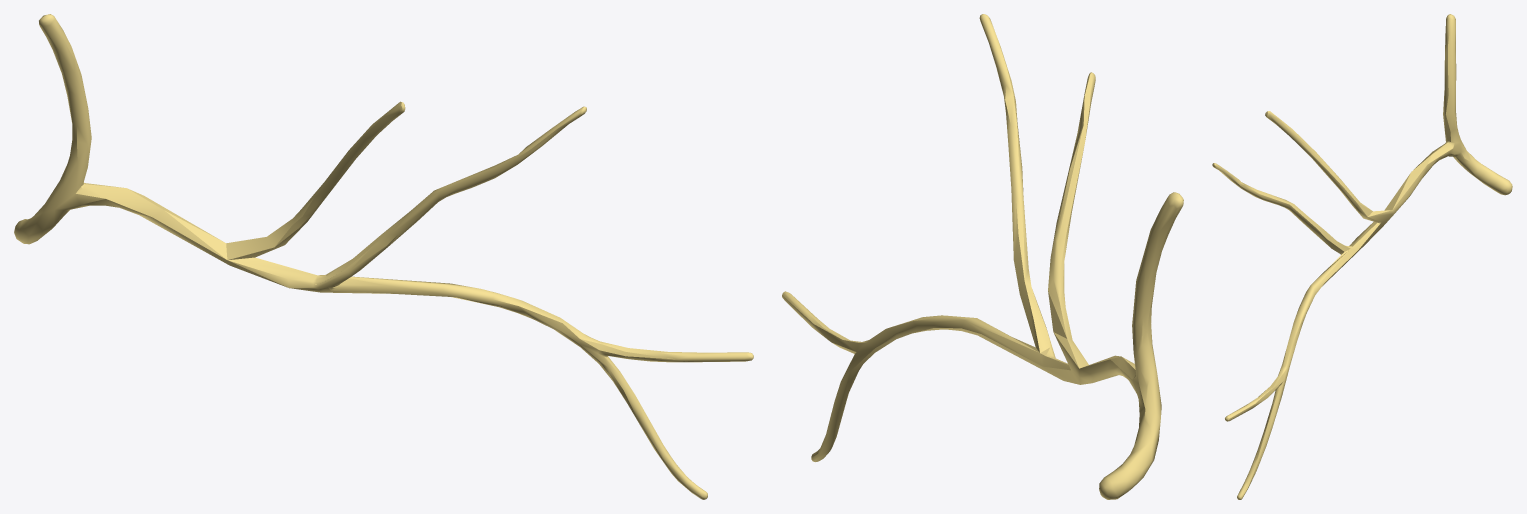
File: fma53251_fj3990.glb
3 views of the same model, side by side, from view 1: azimuth 30°, elevation 25°; view 2: azimuth 150°, elevation 25°; view 3: azimuth 270°, elevation 25° (orthographic). The views are drawn at different scales.
Parts seen in each view (by area): view 1: FMA53251_FJ3990; view 2: FMA53251_FJ3990; view 3: FMA53251_FJ3990.
Part boxes in pixels (x1=…): FMA53251_FJ3990: x1=14, y1=14, x2=753, y2=499; FMA53251_FJ3990: x1=782, y1=14, x2=1183, y2=499; FMA53251_FJ3990: x1=1212, y1=14, x2=1512, y2=499.
Bounding box in the file's own units: 0.02 × 0.0172 × 0.0144.
